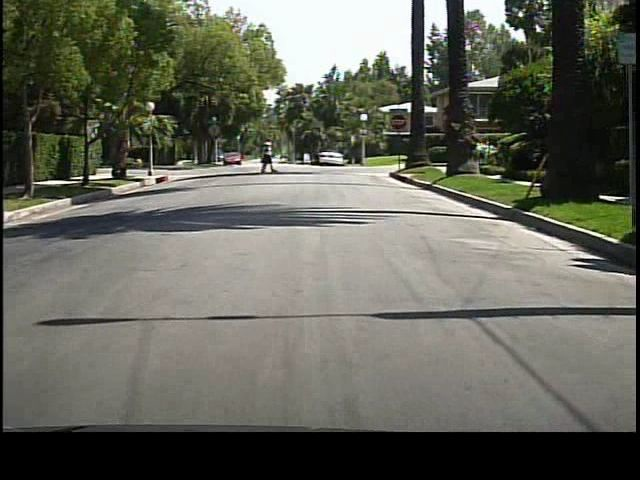person: (260, 135, 277, 174)
